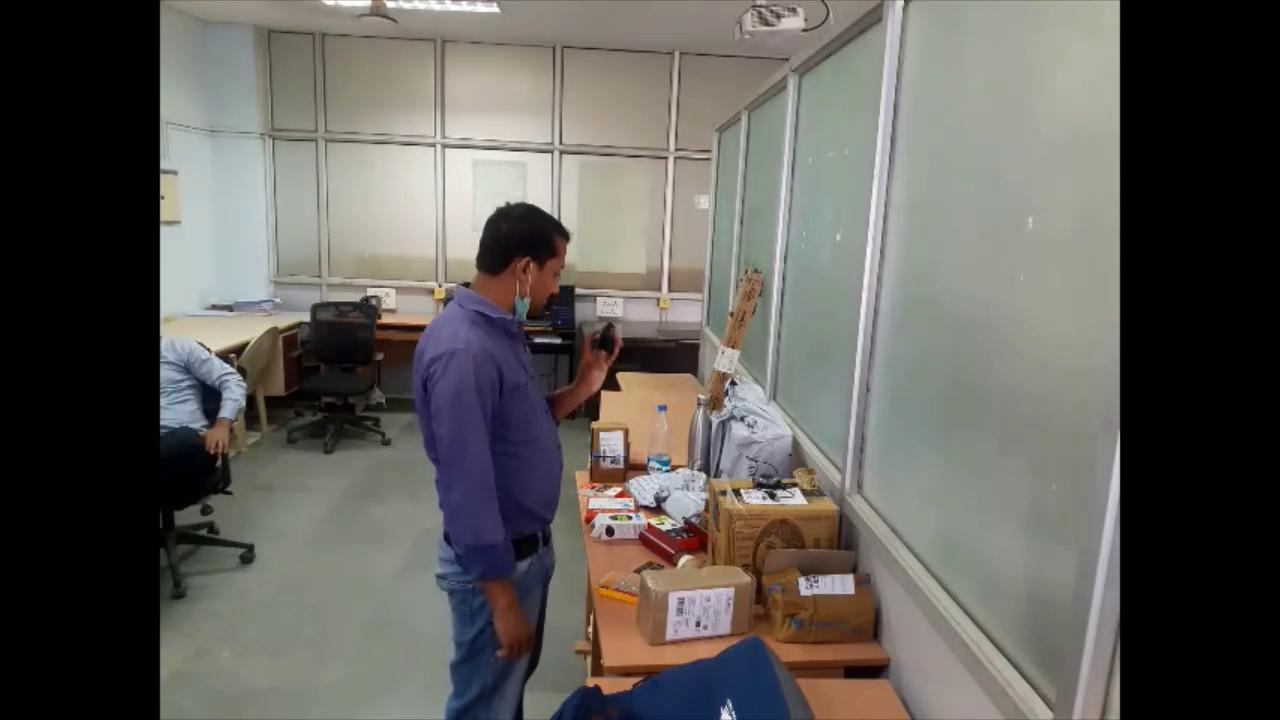Normal: (407, 169, 630, 720)
